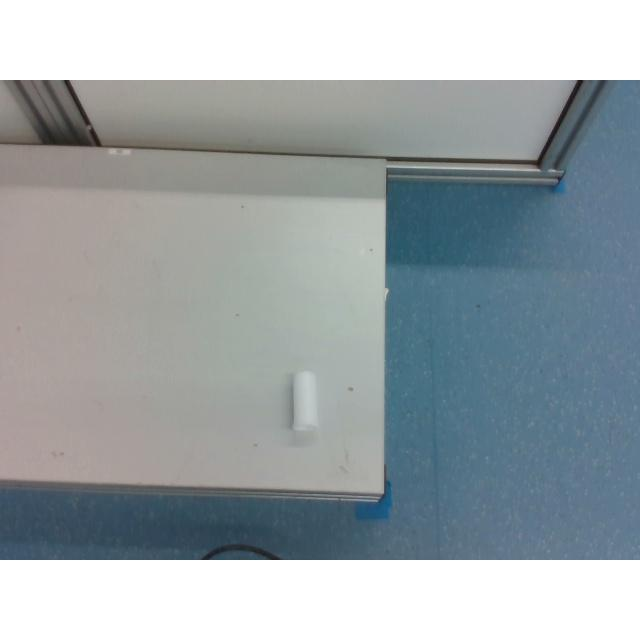Spacer: (290, 371, 318, 433)
